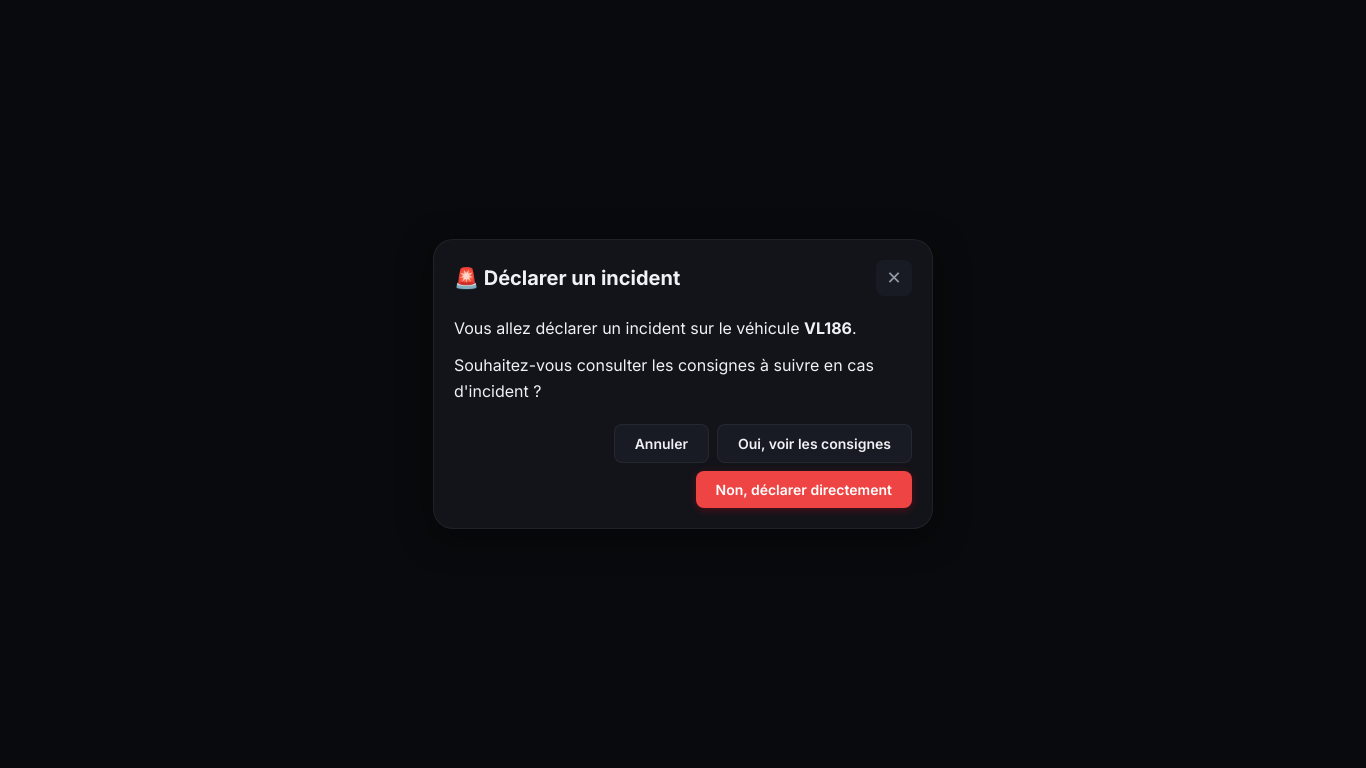
Test: IncidentReportModal › click "Oui" → affiche les consignes + boutons Retour / Déclarer
Click the button "Oui, voir les consignes" at [814, 444], box [717, 424, 912, 463]
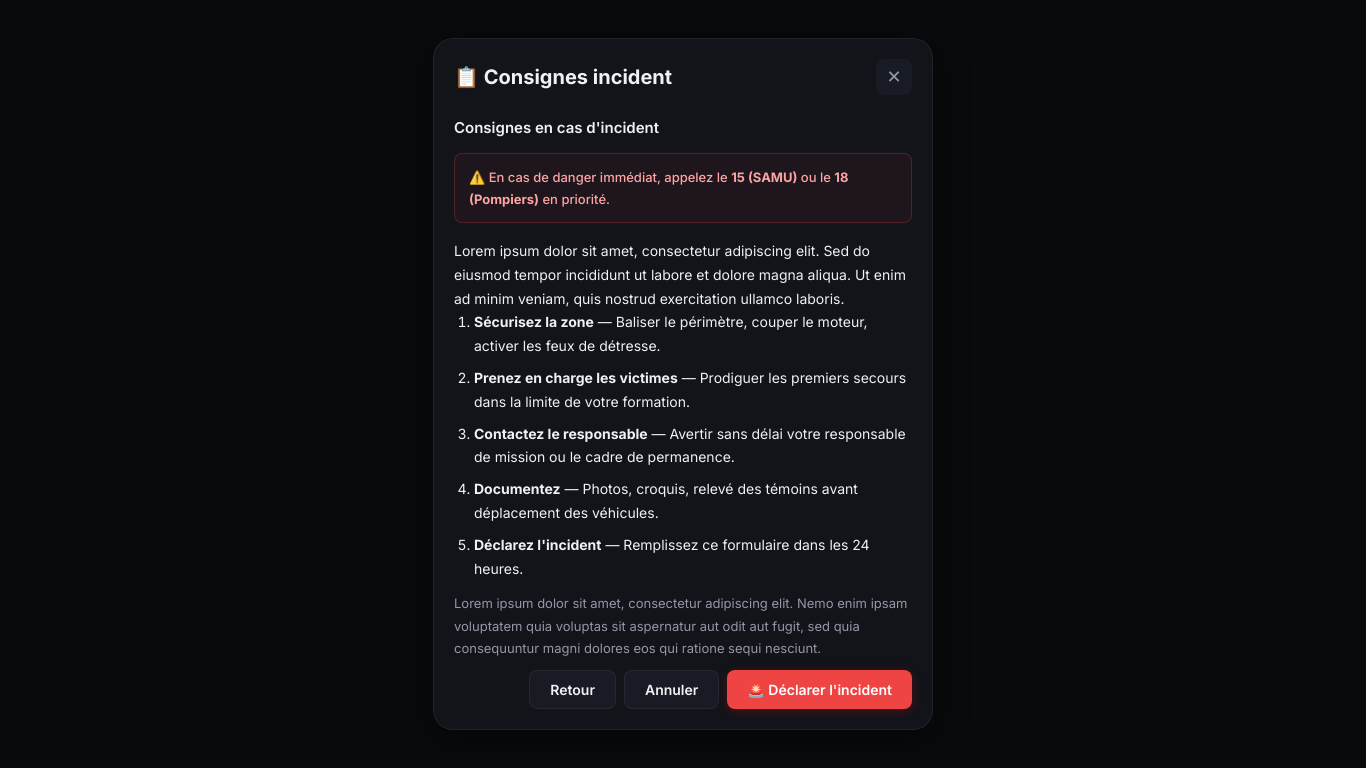
Result: the heading "📋 Consignes incident" is shown at [454, 61, 672, 93]
Result: the heading "Consignes en cas d'incident" is shown at [454, 118, 659, 137]
Result: the button "Retour" is shown at [529, 670, 616, 709]
